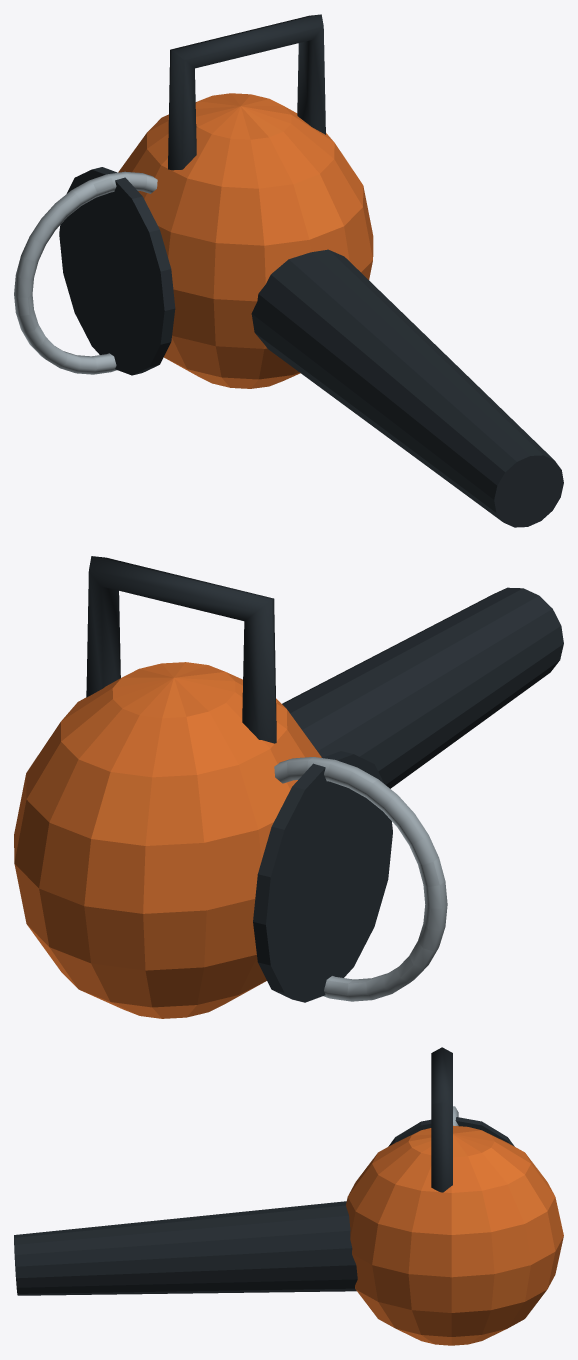
File: leaf-blower.glb
3 views of the same model, one above another, from view 1: azimuth 30°, elevation 25°; view 2: azimuth 150°, elevation 25°; view 3: azimuth 270°, elevation 25° (orthographic). The views are drawn at different scales.
Parts seen in each view (by area): view 1: fan housing; view 2: fan housing; view 3: fan housing.
Part boxes in pixels (<box>): fan housing: <box>14,14,563,527</box>; fan housing: <box>14,556,563,1018</box>; fan housing: <box>14,1047,563,1345</box>.
Size of the model in its own units: 0.628 by 0.6191 by 1.17.
